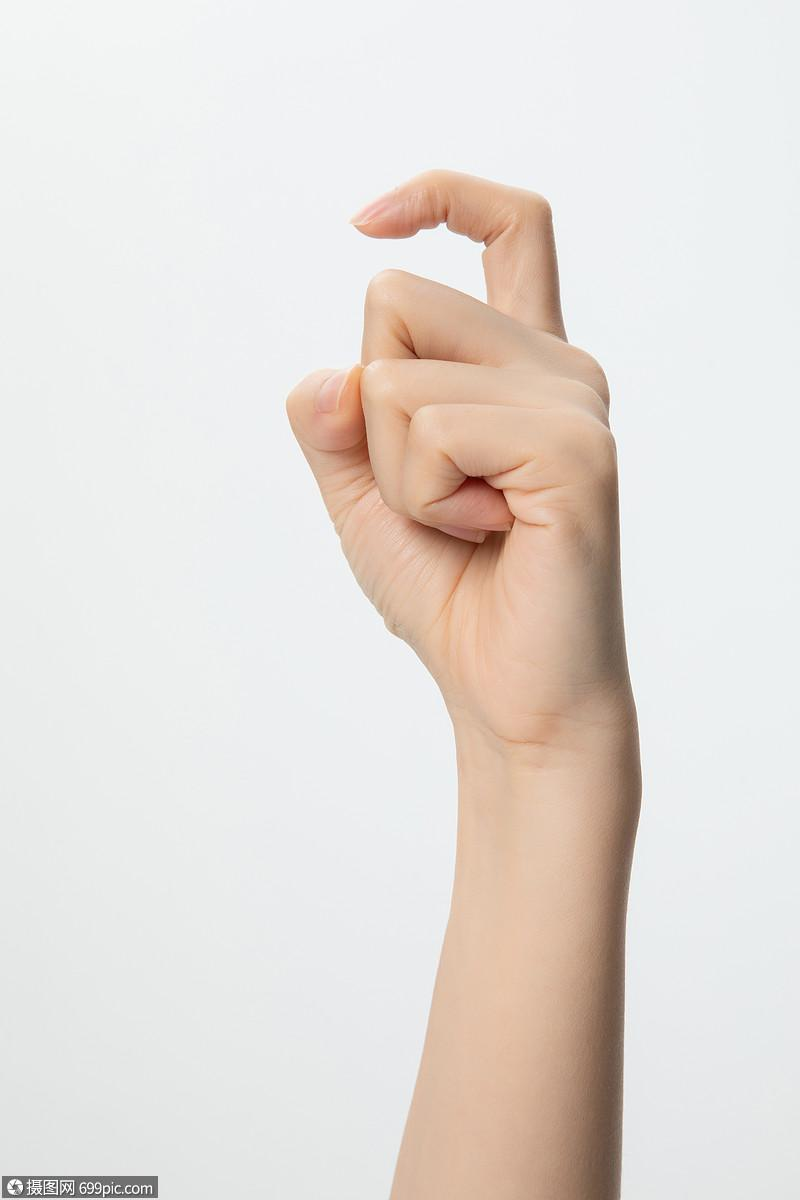anticlockwise: (286, 159, 633, 733)
